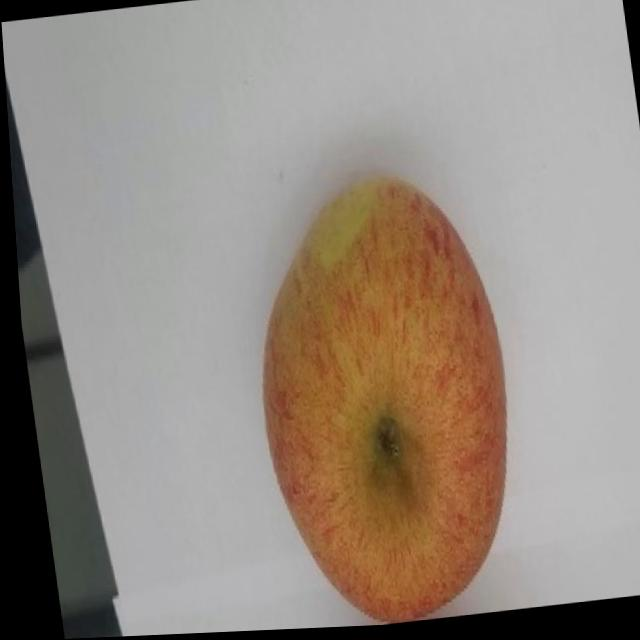Apple: (229, 166, 529, 632)
